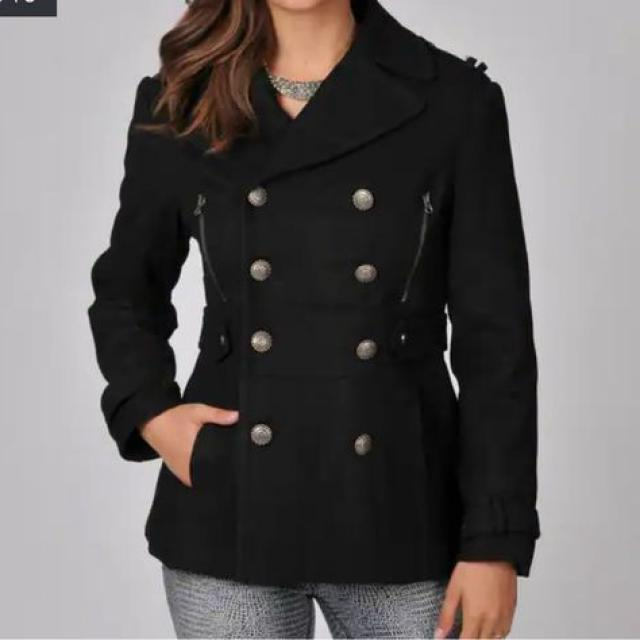coat: (86, 4, 544, 588)
trousers: (158, 559, 467, 640)
